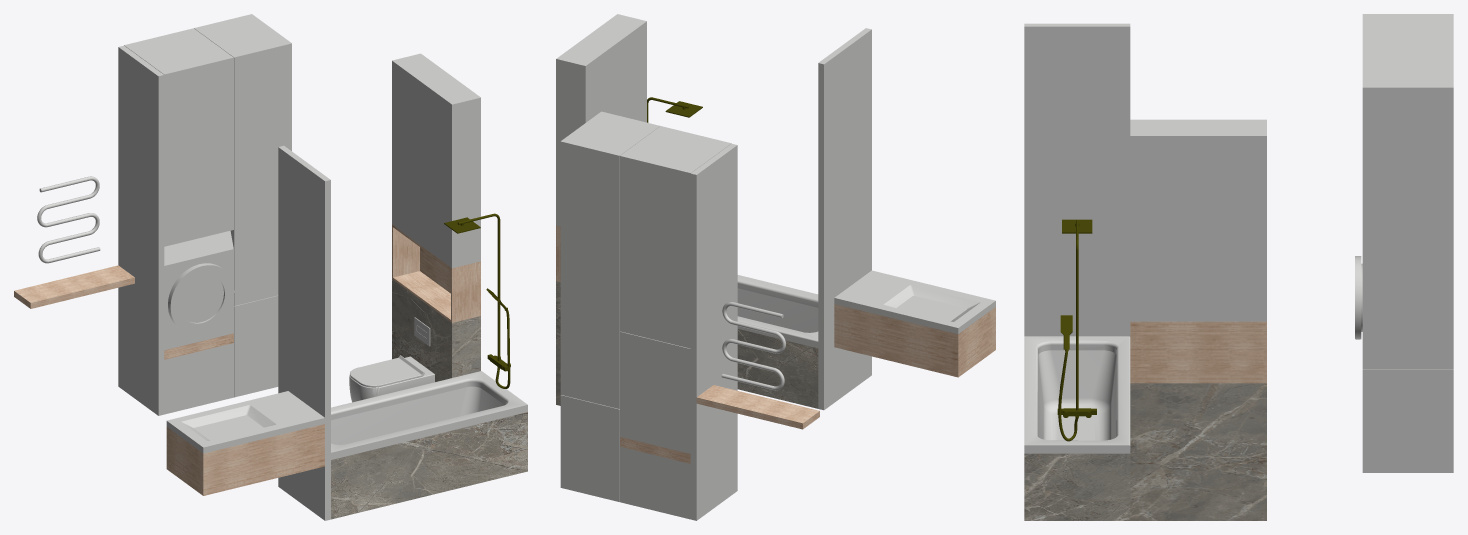
File: utility-room.glb
The picture shows the model from 3 angles, left to right: view 1: azimuth 30°, elevation 25°; view 2: azimuth 150°, elevation 25°; view 3: azimuth 270°, elevation 25°; orthographic projection. The views are drawn at different scales.
Parts seen in each view (by area): view 1: Body28, Body29, Body20, Body34, Body32, Body4, Body2, Body31, Body36, Body35, Body26, Body27 (+8 smaller); view 2: Body34, Body20, Body29, Body32, Body28, Body31, Body36, Body35, Body33, Body4, Body2, Body1.002 (+4 smaller); view 3: Body20, Body34, Body28, Body26, Body2, Body33, Body27, Body4, Body32, Body1.001, Body31.
Part boxes in pixels (box(x1,y1,x2,y2)): Body28: box(392, 53, 480, 268); Body29: box(118, 45, 164, 415); Body20: box(278, 145, 330, 520); Body34: box(194, 14, 291, 305); Body32: box(124, 28, 233, 246); Body4: box(331, 412, 527, 519); Body2: box(331, 371, 527, 459); Body31: box(164, 230, 234, 350); Body36: box(166, 424, 324, 495); Body35: box(166, 391, 324, 453); Body26: box(392, 279, 480, 381); Body27: box(392, 224, 480, 322); Body34: box(560, 111, 659, 408); Body20: box(818, 28, 871, 410); Body29: box(690, 143, 737, 520); Body32: box(620, 126, 731, 348); Body28: box(556, 14, 646, 226); Body31: box(620, 331, 690, 453); Body36: box(834, 304, 995, 377); Body35: box(834, 270, 995, 334); Body33: box(560, 395, 619, 501); Body4: box(737, 329, 818, 408); Body2: box(737, 275, 818, 348); Body1.002: box(620, 446, 690, 519); Body20: box(1024, 23, 1130, 336); Body34: box(1362, 55, 1453, 369); Body28: box(1130, 119, 1266, 321); Body26: box(1130, 383, 1266, 520); Body2: box(1024, 336, 1130, 453); Body33: box(1362, 369, 1453, 472); Body27: box(1130, 321, 1266, 383); Body4: box(1024, 453, 1130, 520); Body32: box(1362, 16, 1453, 55); Body1.001: box(1063, 219, 1091, 417); Body31: box(1355, 256, 1362, 339).
Bounding box in the file's own units: 2.8 × 2.8 × 2.83.
4 materials, 2 textured.
